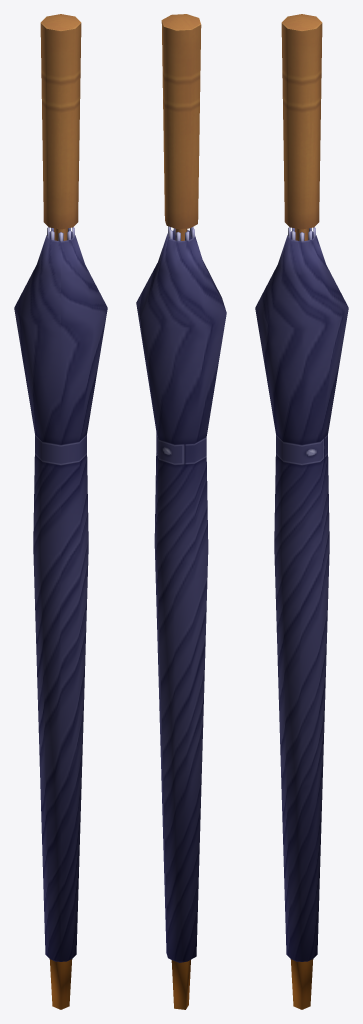
The model's file is set_umbrella_14.fbx.
3 views of the same model, side by side, from view 1: azimuth 90°, elevation 25°; view 2: azimuth 210°, elevation 25°; view 3: azimuth 270°, elevation 25° (orthographic).
Parts seen in each view (by area): view 1: set_umbrella_14; view 2: set_umbrella_14; view 3: set_umbrella_14.
Boxes of the visible parts, <box> form: set_umbrella_14: <box>14,14,107,1009</box>; set_umbrella_14: <box>136,14,226,1009</box>; set_umbrella_14: <box>255,14,348,1009</box>.
Size of the model in its own units: 7.05 by 82.16 by 7.05.
